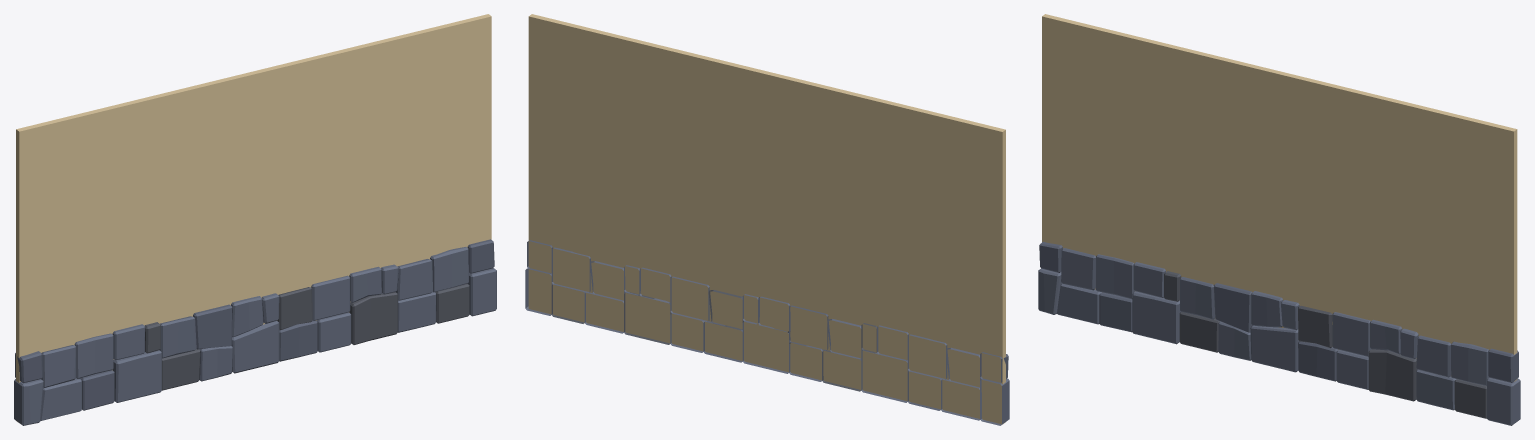
Rendered from Wall_02.fbx.
3 views of the same model, side by side, from view 1: azimuth 30°, elevation 25°; view 2: azimuth 150°, elevation 25°; view 3: azimuth 330°, elevation 25° (orthographic).
Visible parts, largest first — view 1: Wall_02; view 2: Wall_02; view 3: Wall_02.
Part boxes in pixels (x1,y1,x2,y2): Wall_02: [14, 14, 496, 425]; Wall_02: [525, 14, 1009, 425]; Wall_02: [1038, 14, 1520, 425].
Bounding box in the file's own units: 4.75 × 2.79 × 0.1594.
